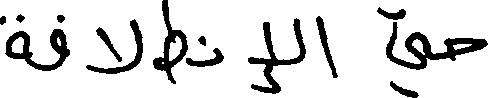ا: (313, 14, 339, 78)
ة: (0, 12, 31, 66)
ح: (443, 36, 487, 61)
ط: (162, 0, 188, 85)
ف: (47, 12, 67, 71)
لا: (245, 16, 306, 94), (86, 17, 143, 75)
ن: (196, 35, 224, 66)
ي: (382, 6, 430, 95)
